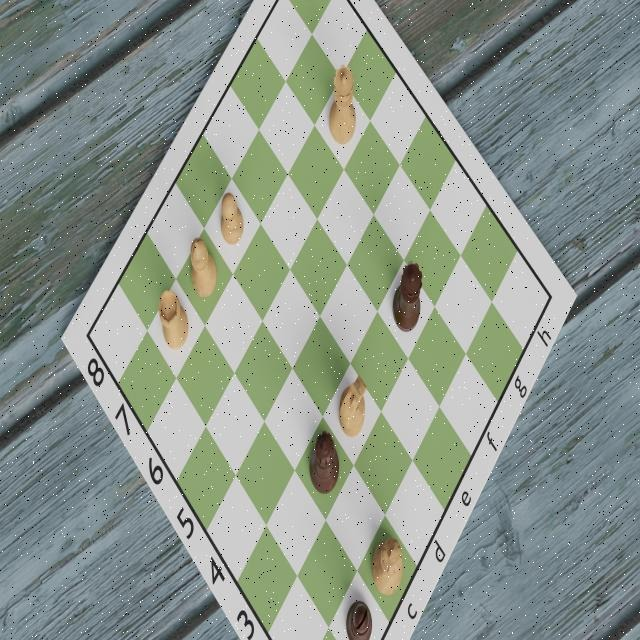black-bishop: (345, 599, 373, 640)
black-king: (308, 428, 340, 496)
black-pawn: (220, 191, 244, 245)
black-queen: (392, 258, 424, 333)
white-bishop: (191, 237, 217, 299)
white-king: (371, 534, 404, 598)
white-knight: (339, 373, 369, 439)
white-queen: (329, 61, 357, 146)
white-rook: (158, 287, 189, 350)
